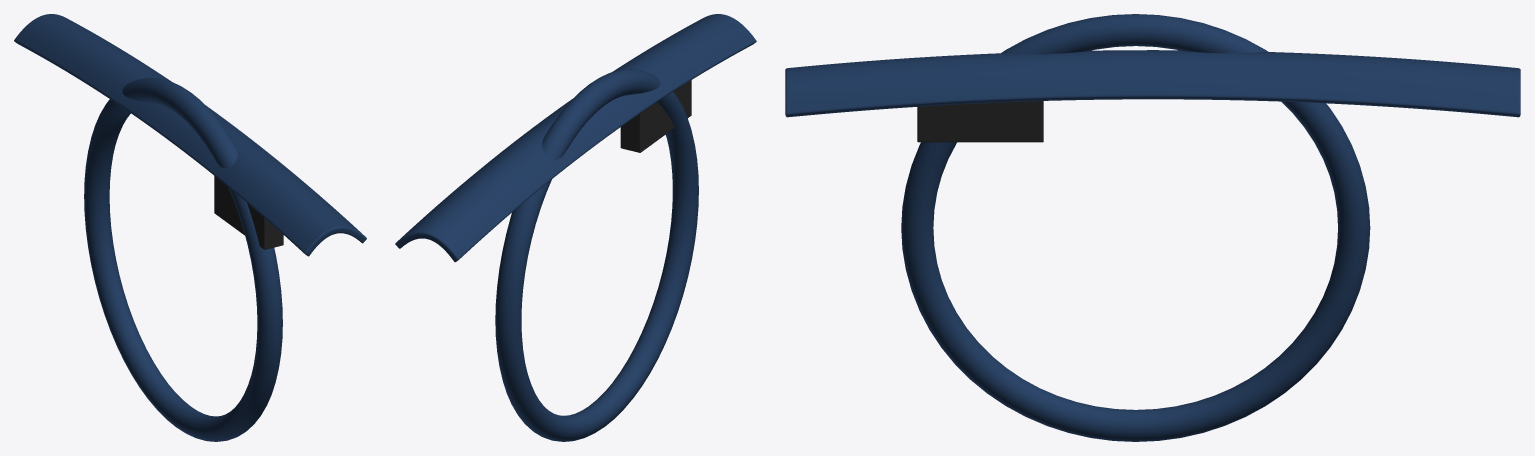
The model's file is front_right_fender.glb.
The picture shows the model from 3 angles, left to right: view 1: azimuth 30°, elevation 25°; view 2: azimuth 150°, elevation 25°; view 3: azimuth 270°, elevation 25°; orthographic projection. The views are drawn at different scales.
Visible parts, largest first — view 1: FENDER_ARCH_LIP_RIGHT, FENDER_SKIN_RIGHT, FENDER_EXTRACTOR_RIGHT; view 2: FENDER_ARCH_LIP_RIGHT, FENDER_SKIN_RIGHT, FENDER_EXTRACTOR_RIGHT; view 3: FENDER_SKIN_RIGHT, FENDER_ARCH_LIP_RIGHT, FENDER_EXTRACTOR_RIGHT.
Boxes of the visible parts, box(x1,y1,x2,y2) form: FENDER_ARCH_LIP_RIGHT: box(84, 77, 282, 441); FENDER_SKIN_RIGHT: box(14, 14, 366, 256); FENDER_EXTRACTOR_RIGHT: box(214, 176, 283, 249); FENDER_ARCH_LIP_RIGHT: box(495, 69, 698, 441); FENDER_SKIN_RIGHT: box(395, 14, 756, 262); FENDER_EXTRACTOR_RIGHT: box(620, 80, 691, 152); FENDER_SKIN_RIGHT: box(785, 50, 1520, 117); FENDER_ARCH_LIP_RIGHT: box(901, 14, 1370, 441); FENDER_EXTRACTOR_RIGHT: box(917, 101, 1043, 142).
Bounding box in the file's own units: 0.1569 × 0.816 × 1.28.
